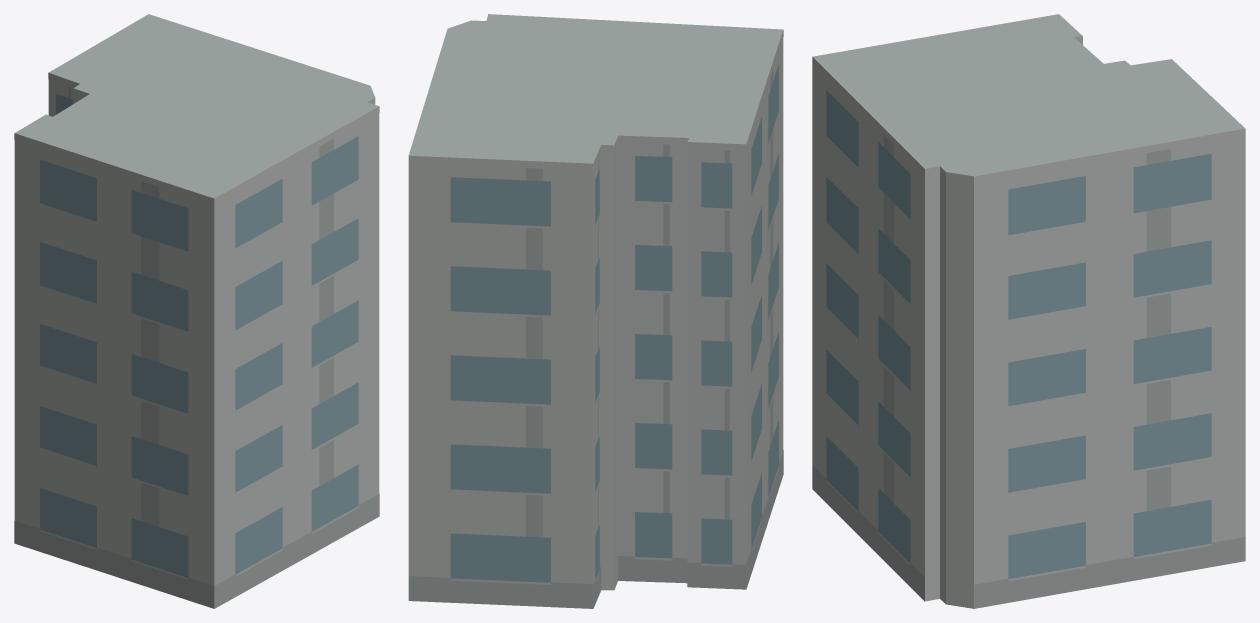
The model's file is survey-upis-32981557.glb.
3 views of the same model, side by side, from view 1: azimuth 30°, elevation 25°; view 2: azimuth 150°, elevation 25°; view 3: azimuth 270°, elevation 25° (orthographic). The views are drawn at different scales.
Visible parts, largest first — view 1: survey-upis-32981557.tmp; view 2: survey-upis-32981557.tmp; view 3: survey-upis-32981557.tmp.
Part boxes in pixels (left/top/right/bottom): survey-upis-32981557.tmp: left=14, top=14, right=379, bottom=608; survey-upis-32981557.tmp: left=408, top=14, right=783, bottom=608; survey-upis-32981557.tmp: left=812, top=14, right=1245, bottom=608.
Bounding box in the file's own units: 12.07 × 14.98 × 13.61.
